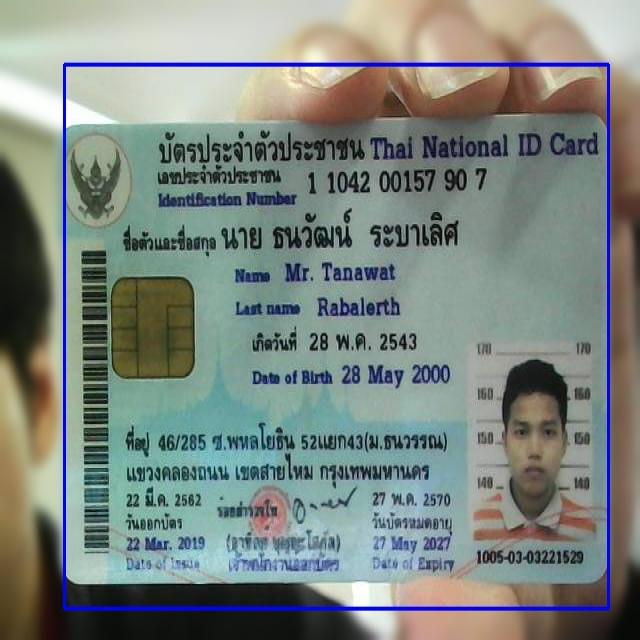Address_th: (115, 418, 456, 489)
Date_of_Birth: (338, 357, 453, 394)
Date_of_Expiry: (370, 531, 458, 557)
Date_of_Issue: (123, 533, 208, 554)
First_Name: (281, 254, 398, 288)
ID_Number: (303, 164, 495, 197)
Image: (466, 342, 600, 544)
Last_Name: (311, 290, 404, 322)
Thai_Name: (219, 208, 473, 259)
